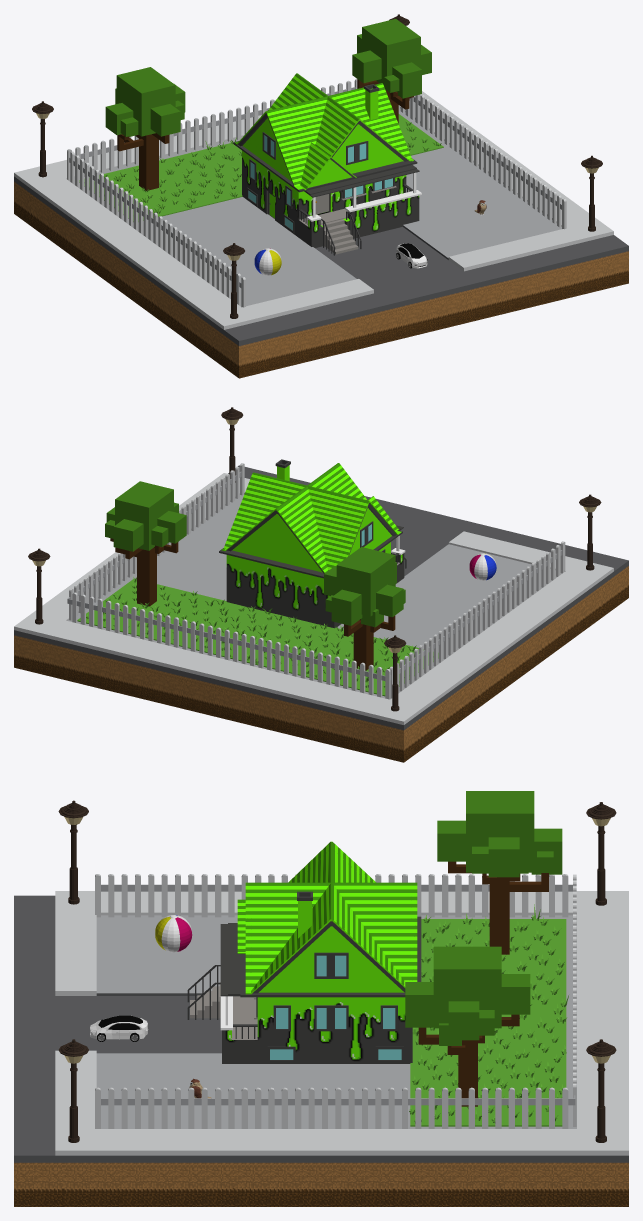
3 renders of one model, top to bottom at view 1: azimuth 30°, elevation 25°; view 2: azimuth 150°, elevation 25°; view 3: azimuth 270°, elevation 25°, orthographic. The views are drawn at different scales.
Visible parts, largest first — view 1: Cube.004, Cube.754, OBJRANDOM_BEACHBALL, VEHICLES_TESLA; view 2: Cube.004, Cube.754, OBJRANDOM_BEACHBALL; view 3: Cube.004, Cube.754, VEHICLES_TESLA, OBJRANDOM_BEACHBALL.
Boxes of the visible parts, x1,y1,x2,y2 form: Cube.004: (14,14,628,378); Cube.754: (233,73,421,255); OBJRANDOM_BEACHBALL: (254,248,281,275); VEHICLES_TESLA: (396,243,427,268); Cube.004: (14,407,628,762); Cube.754: (219,459,406,628); OBJRANDOM_BEACHBALL: (469,553,496,580); Cube.004: (14,791,628,1206); Cube.754: (187,841,421,1063); VEHICLES_TESLA: (90,1015,148,1041); OBJRANDOM_BEACHBALL: (155,915,192,952).
Size of the model in its own units: 4000 by 1599 by 4000.
Materials: 33 (4 with a texture image).
